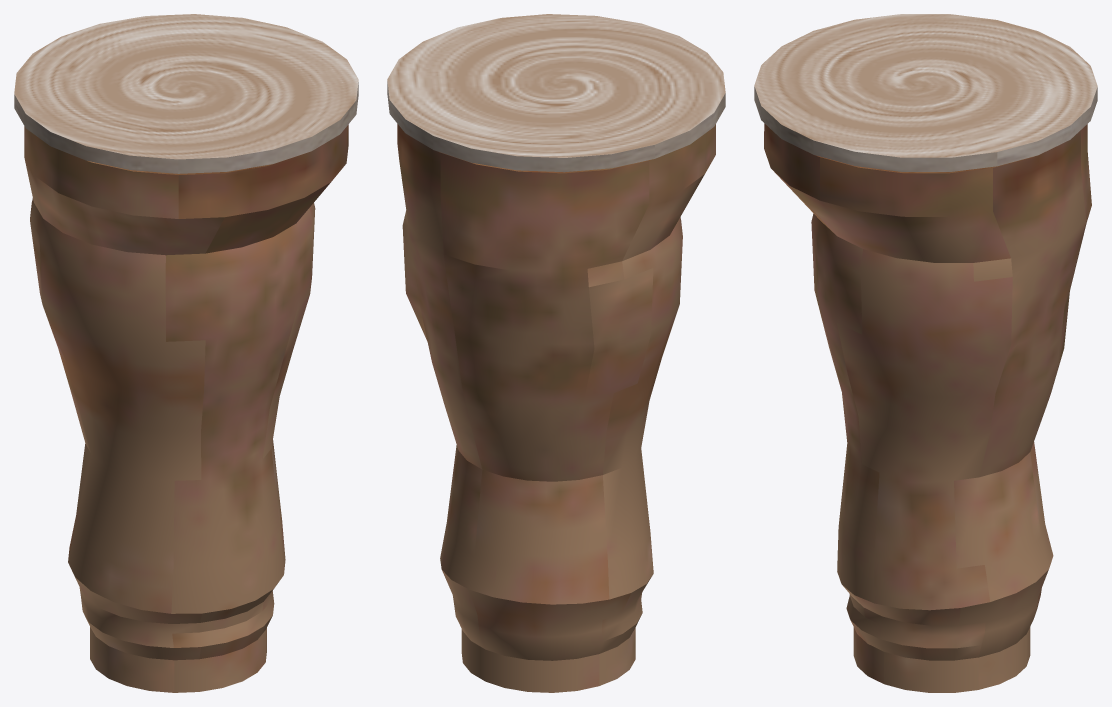
Rendered from bigstartpillar.glb.
3 renders of one model, left to right at view 1: azimuth 30°, elevation 25°; view 2: azimuth 150°, elevation 25°; view 3: azimuth 270°, elevation 25°, orthographic.
Parts seen in each view (by area): view 1: Cylinder; view 2: Cylinder; view 3: Cylinder.
Part boxes in pixels (box(x1,y1,x2,y2)): Cylinder: box(14, 14, 358, 692); Cylinder: box(387, 14, 725, 692); Cylinder: box(754, 14, 1097, 692).
Bounding box in the file's own units: 3.85 × 7.14 × 3.89.
1 material, 1 textured.
